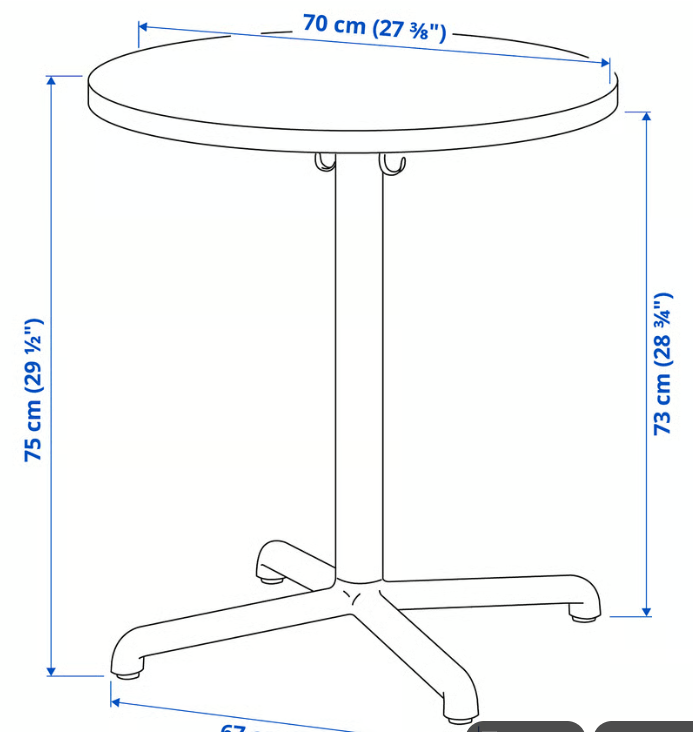table_legs: (111, 153, 600, 724)
table_top: (88, 31, 618, 153)
